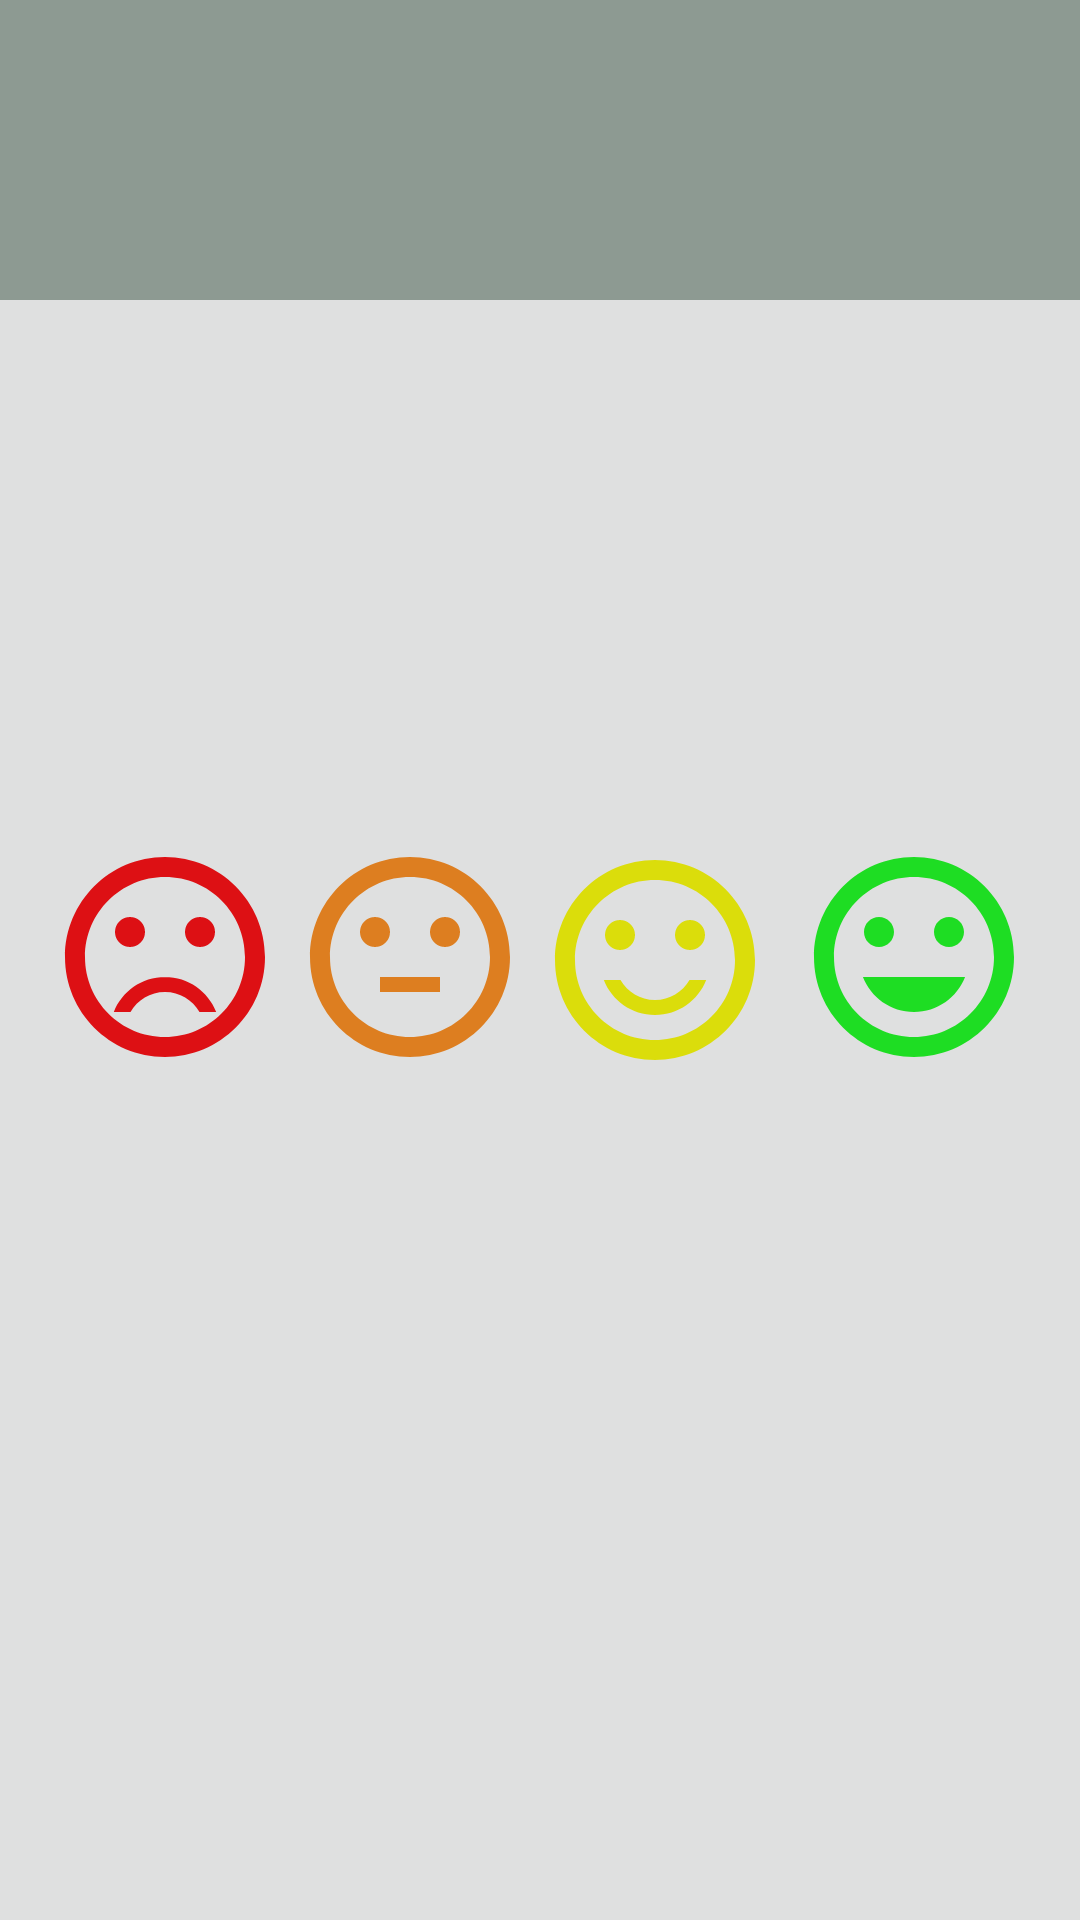

Screen size 1080w x 1920h. Icon name, then its box in pixels as bbox=[x1, y1, x2, y2]:
smiley dissatisfied: bbox=[65, 857, 265, 1057]
smiley neutral: bbox=[310, 857, 510, 1057]
